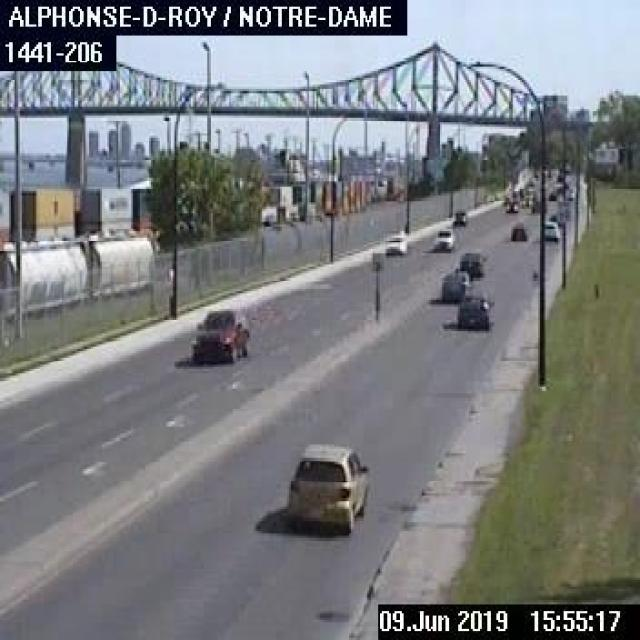vehicle: (284, 438, 369, 533), (186, 304, 249, 364), (451, 290, 497, 332), (437, 268, 472, 303), (457, 249, 486, 276), (380, 229, 407, 253), (431, 225, 455, 249), (540, 219, 560, 240), (450, 208, 469, 228), (509, 222, 526, 239), (503, 197, 519, 211)
